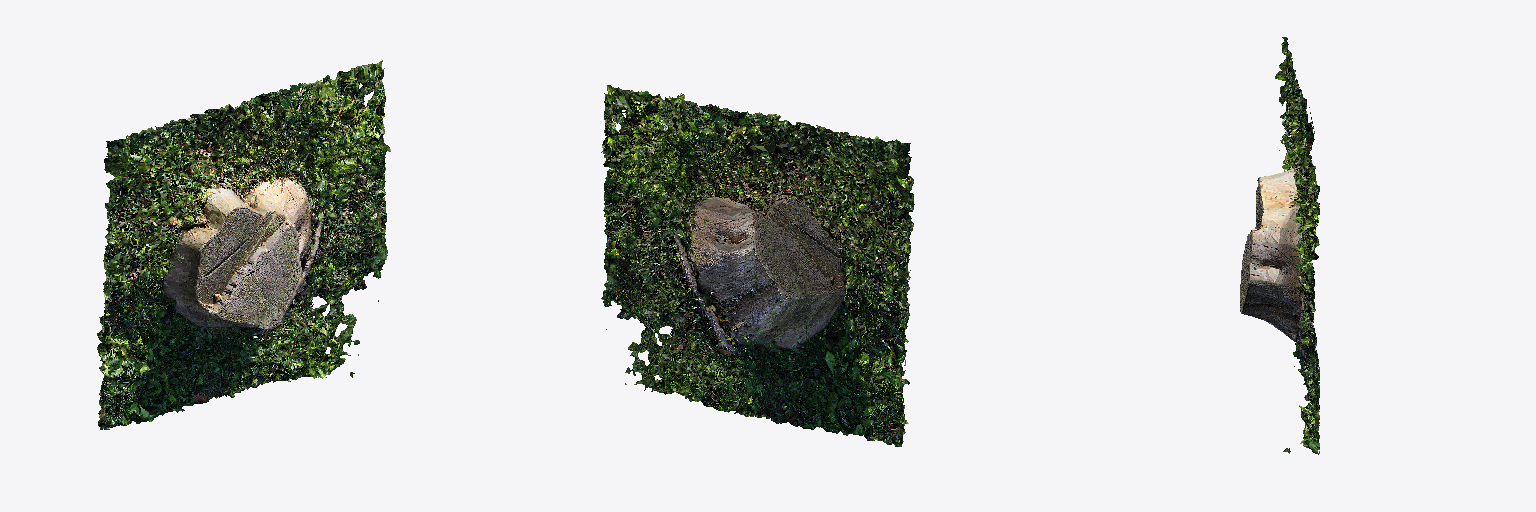
3 renders of one model, left to right at view 1: azimuth 30°, elevation 25°; view 2: azimuth 150°, elevation 25°; view 3: azimuth 270°, elevation 25°, orthographic.
Visible parts, largest first — view 1: Group_Global; view 2: Group_Global; view 3: Group_Global.
Boxes of the visible parts, box(x1,y1,x2,y2) form: Group_Global: box(97, 60, 390, 429); Group_Global: box(601, 85, 914, 446); Group_Global: box(1240, 37, 1319, 454).
Bounding box in the file's own units: 17.52 × 16.99 × 4.17.
1 materials, 1 textured.